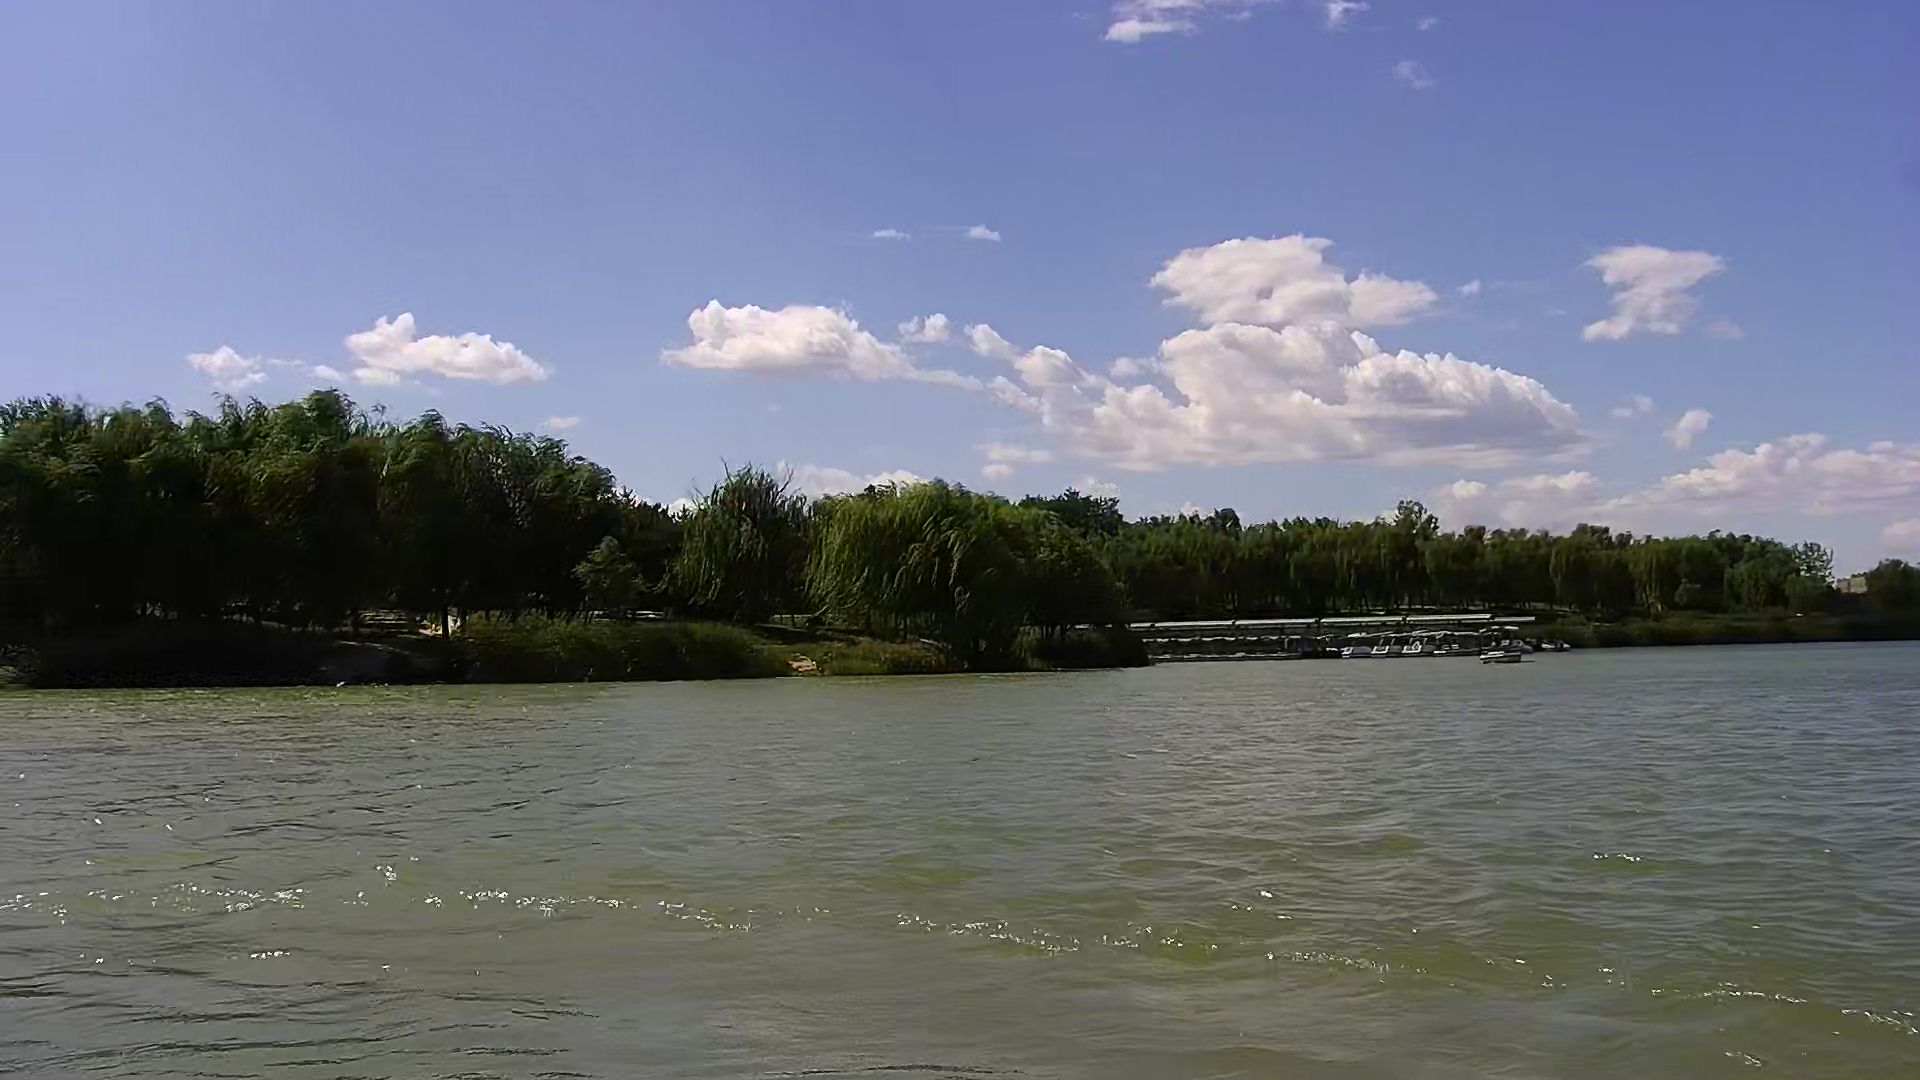boat: (1432, 632, 1482, 662), (1371, 632, 1408, 659), (1340, 632, 1377, 658), (1403, 632, 1441, 655), (1480, 650, 1520, 667)
harbor: (1149, 618, 1538, 658)
